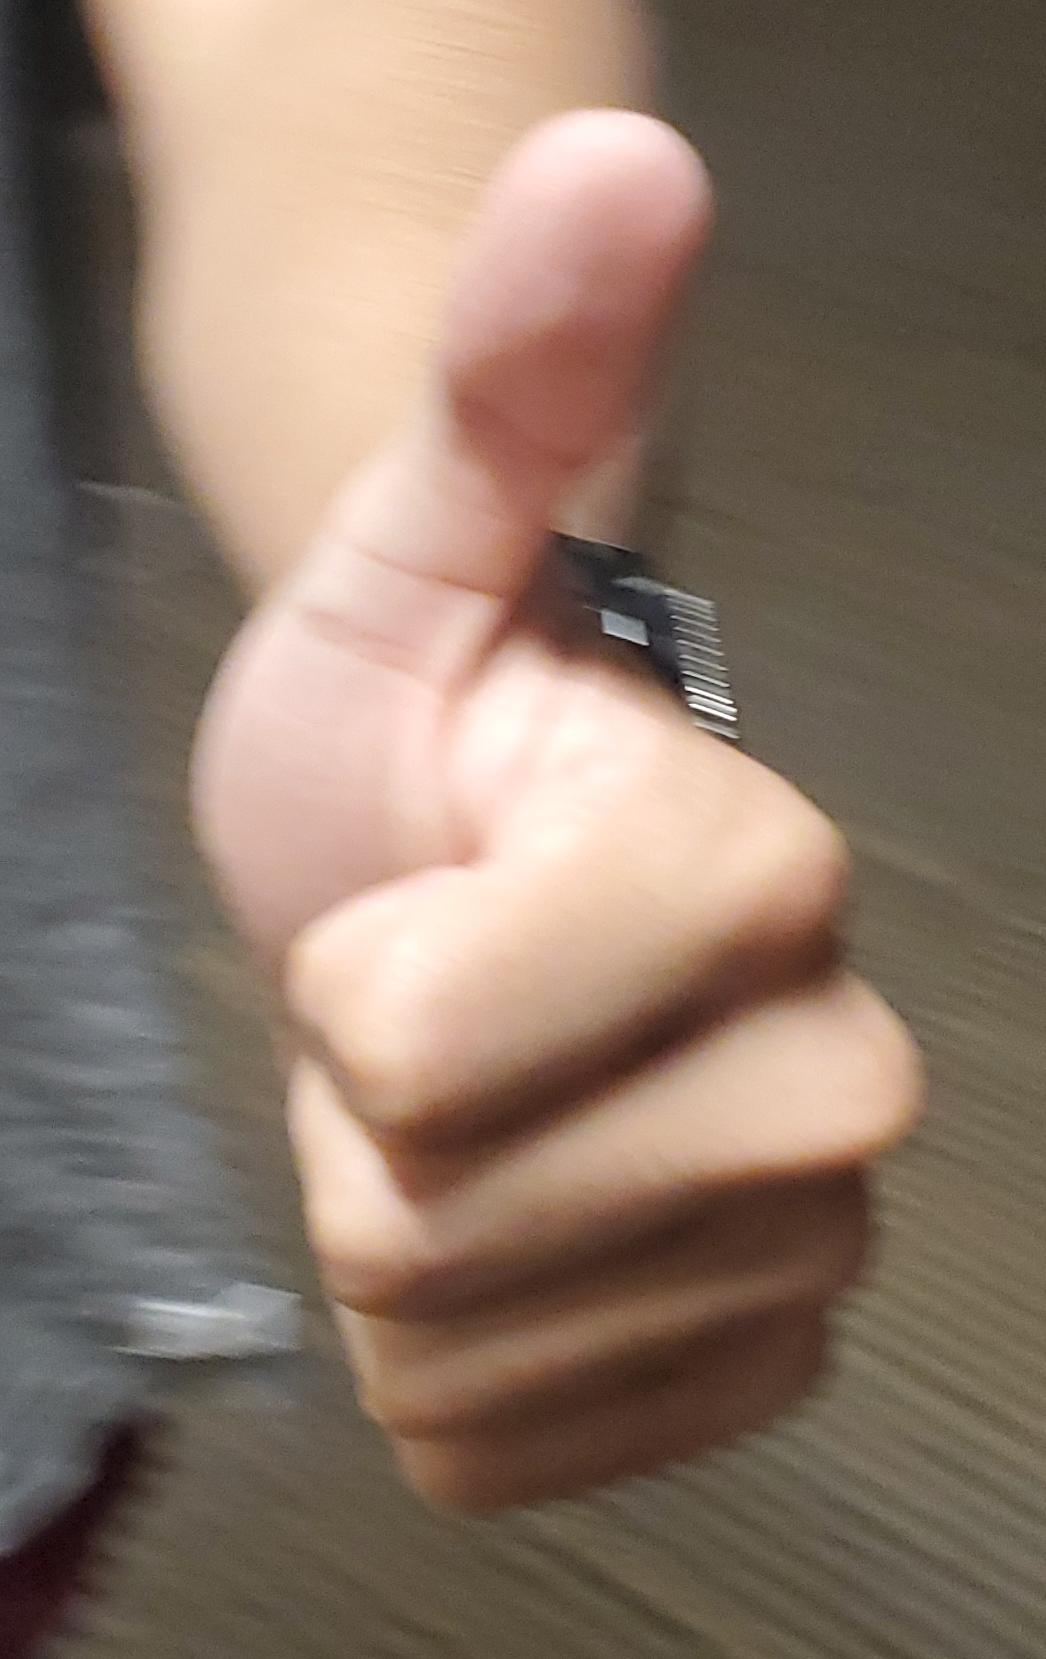up: (0, 1, 1046, 1659)
